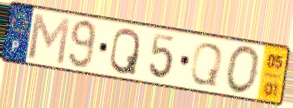5: (146, 32, 179, 81)
9: (66, 18, 99, 72)
M: (26, 11, 73, 67)
O: (224, 43, 263, 96)
Q: (107, 27, 142, 78), (188, 41, 225, 89)
